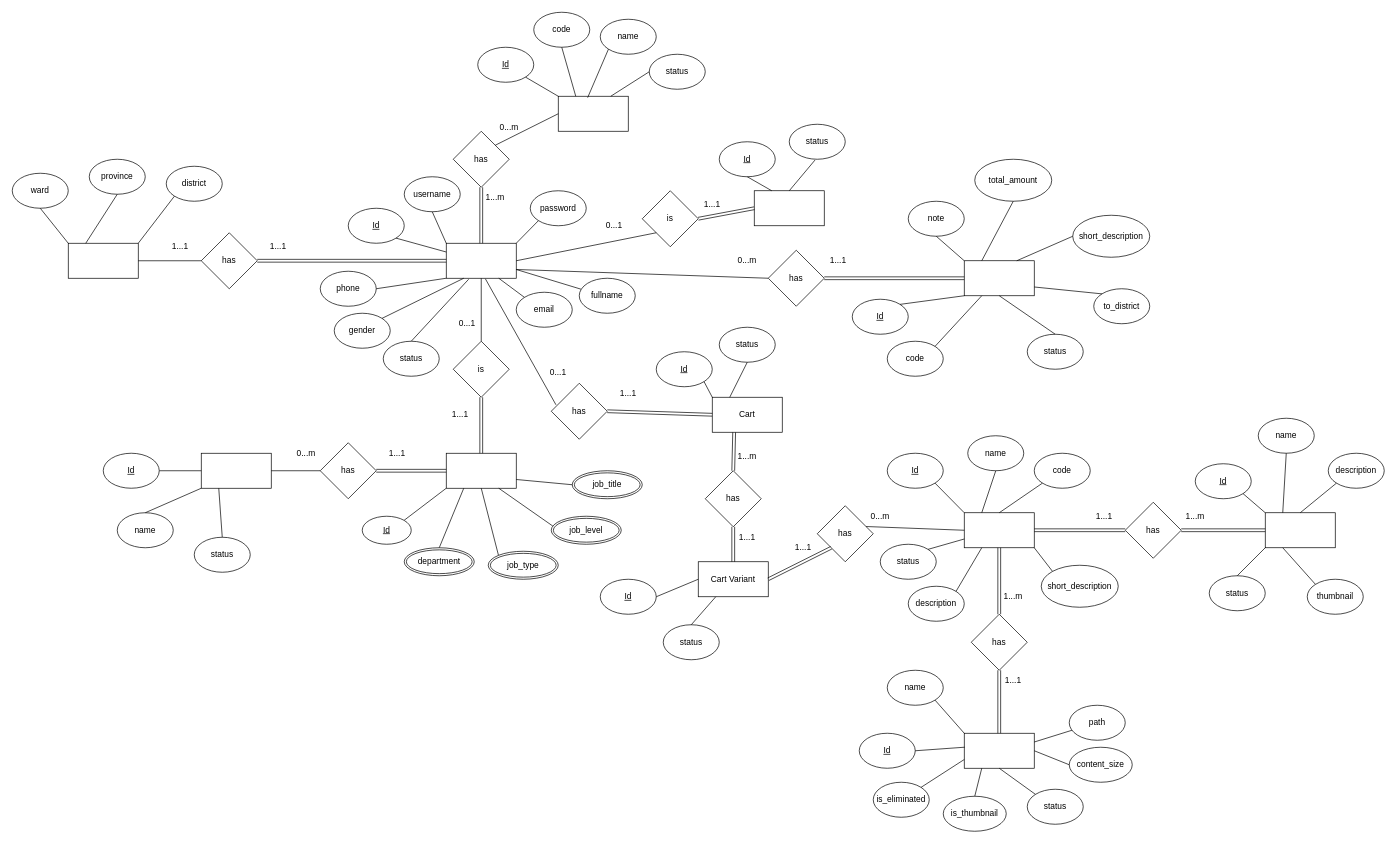
The diagram is 1397 pixels wide and 844 high, and some of its shapes have lost their labels. The shapes that lost their labels are listed below. From the top down, each one's centre as x and y in pixels, then its label:
At pixel 593 113: "Role".
At pixel 789 208: "Customer".
At pixel 103 260: "Address".
At pixel 481 260: "User".
At pixel 999 278: "Order".
At pixel 236 470: "Office".
At pixel 481 470: "Employee".
At pixel 999 530: "Product".
At pixel 1300 530: "Category".
At pixel 999 750: "Image".
